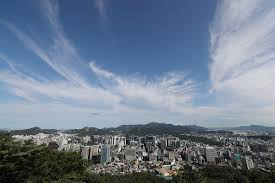sky: (1, 1, 274, 126)
tree: (7, 140, 82, 181)
vilage: (34, 128, 270, 177)
